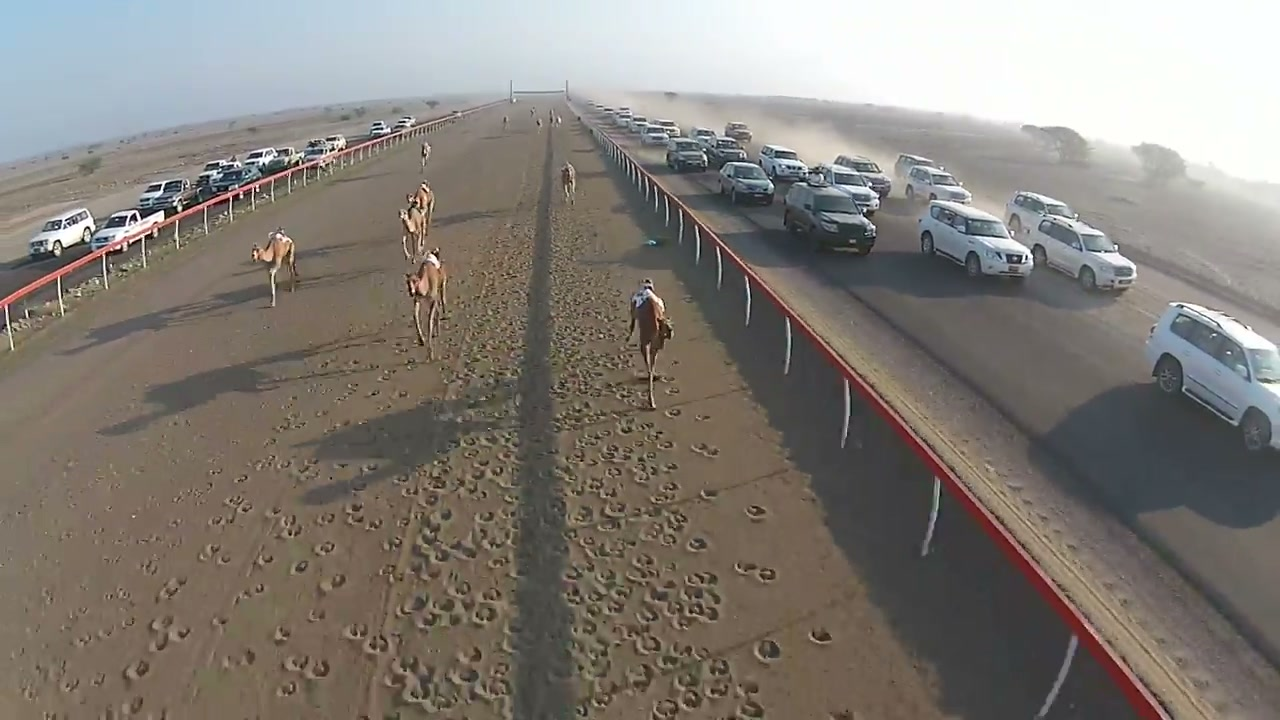animal_foot_print: (33, 148, 865, 717)
